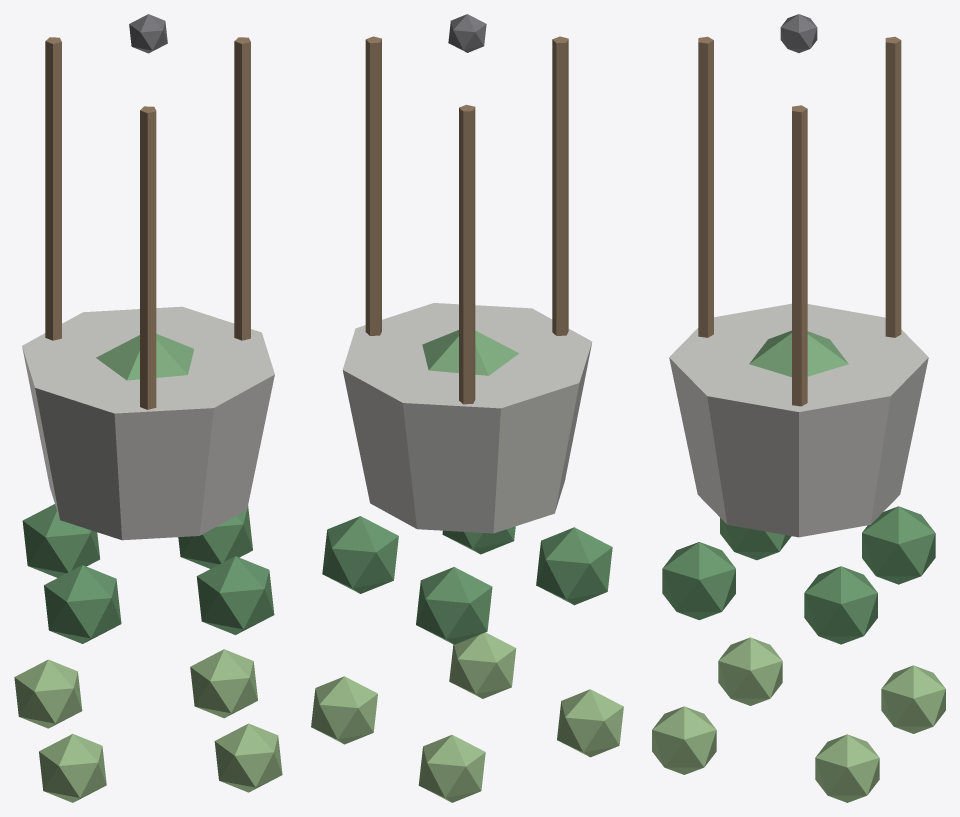
File: pla_vaso_suspenso.glb
3 renders of one model, left to right at view 1: azimuth 30°, elevation 25°; view 2: azimuth 150°, elevation 25°; view 3: azimuth 270°, elevation 25°, orthographic.
Parts seen in each view (by area): view 1: PLA_VASO_SUSPENSO_v01; view 2: PLA_VASO_SUSPENSO_v01; view 3: PLA_VASO_SUSPENSO_v01.
Part boxes in pixels (x1,y1,x2,y2): PLA_VASO_SUSPENSO_v01: [14, 14, 282, 802]; PLA_VASO_SUSPENSO_v01: [311, 14, 623, 802]; PLA_VASO_SUSPENSO_v01: [652, 14, 945, 802].
Bounding box in the file's own units: 0.2745 × 0.755 × 0.2714.
